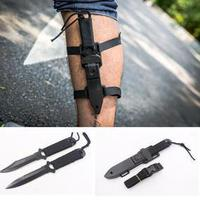knife: (70, 5, 120, 116), (1, 131, 85, 193)
